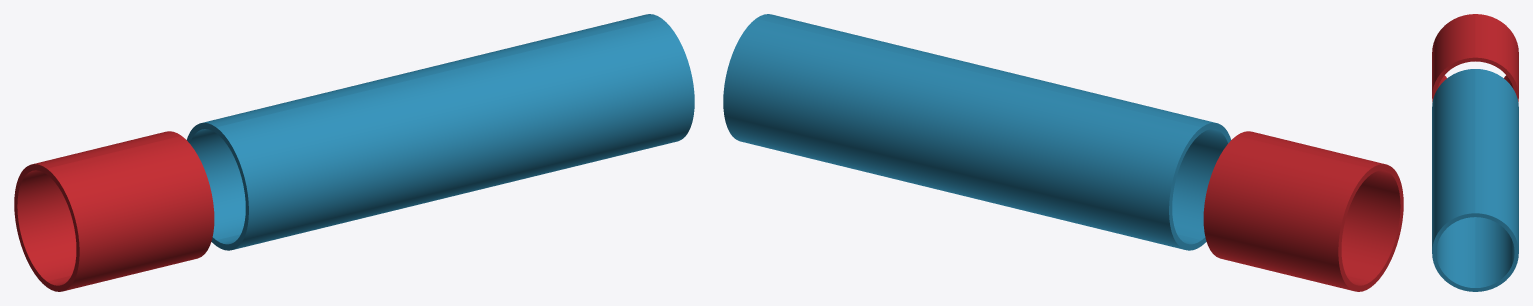
The model's file is hydraulic_cylinder_pressure.glb.
3 views of the same model, side by side, from view 1: azimuth 30°, elevation 25°; view 2: azimuth 150°, elevation 25°; view 3: azimuth 270°, elevation 25° (orthographic). The views are drawn at different scales.
Visible parts, largest first — view 1: bands__front, bands__back; view 2: bands__back, bands__front; view 3: bands__back, bands__front.
Part boxes in pixels (<box>): bands__front: <box>47,18,694,291</box>; bands__back: <box>14,14,661,286</box>; bands__back: <box>723,18,1370,291</box>; bands__front: <box>756,14,1403,286</box>; bands__back: <box>1475,14,1518,291</box>; bands__front: <box>1432,14,1475,291</box>.
Bounding box in the file's own units: 0.89 × 0.164 × 0.164.
